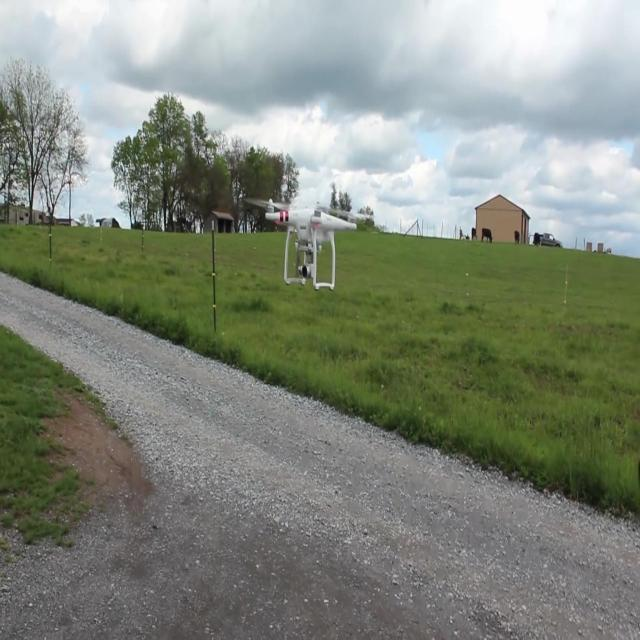drone: (252, 193, 366, 291)
